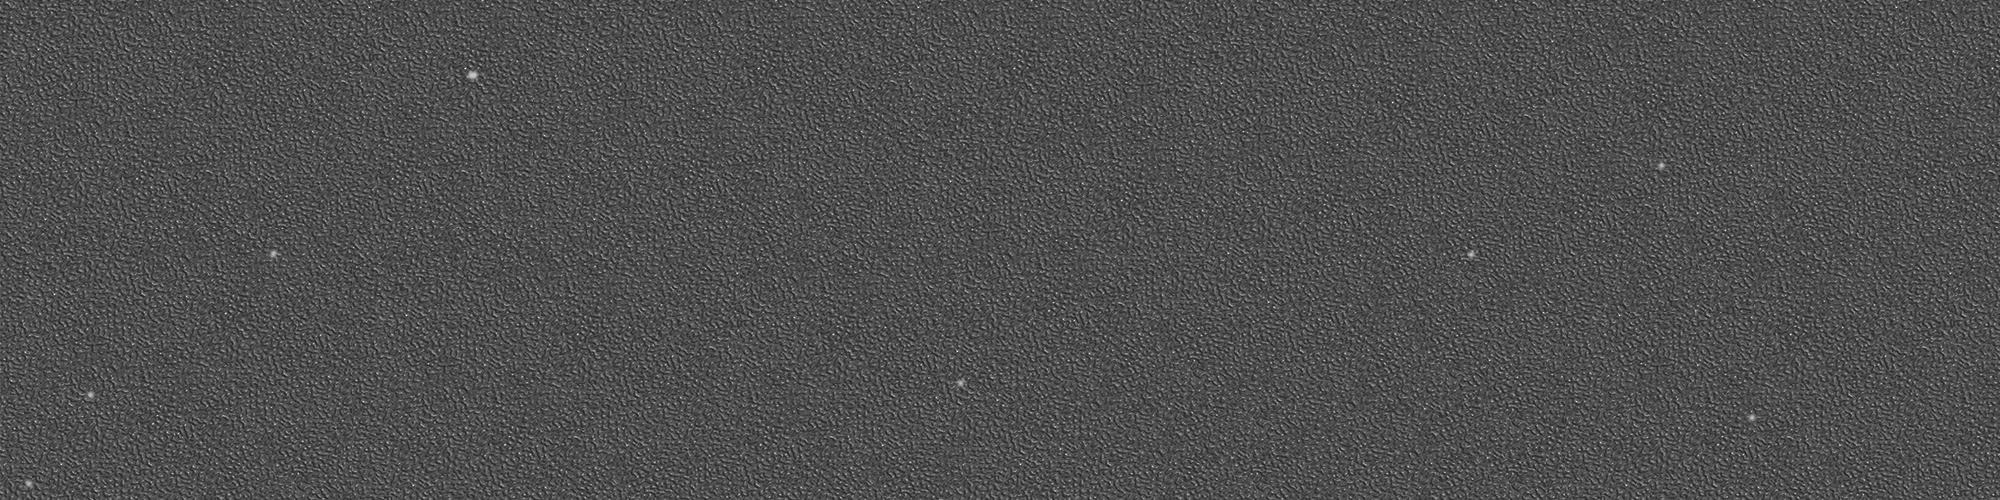Particles: (1740, 408, 1761, 429), (1651, 159, 1673, 176), (463, 65, 483, 83), (950, 376, 971, 392), (264, 246, 281, 261), (1463, 246, 1480, 261), (84, 390, 99, 402), (24, 478, 36, 489)
